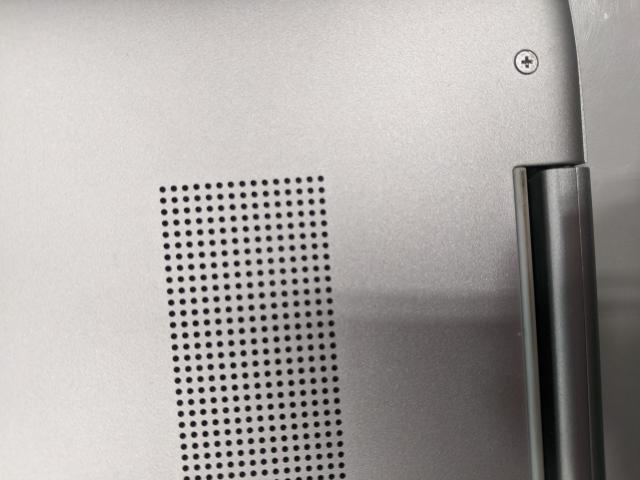CRS: (515, 48, 540, 77)
